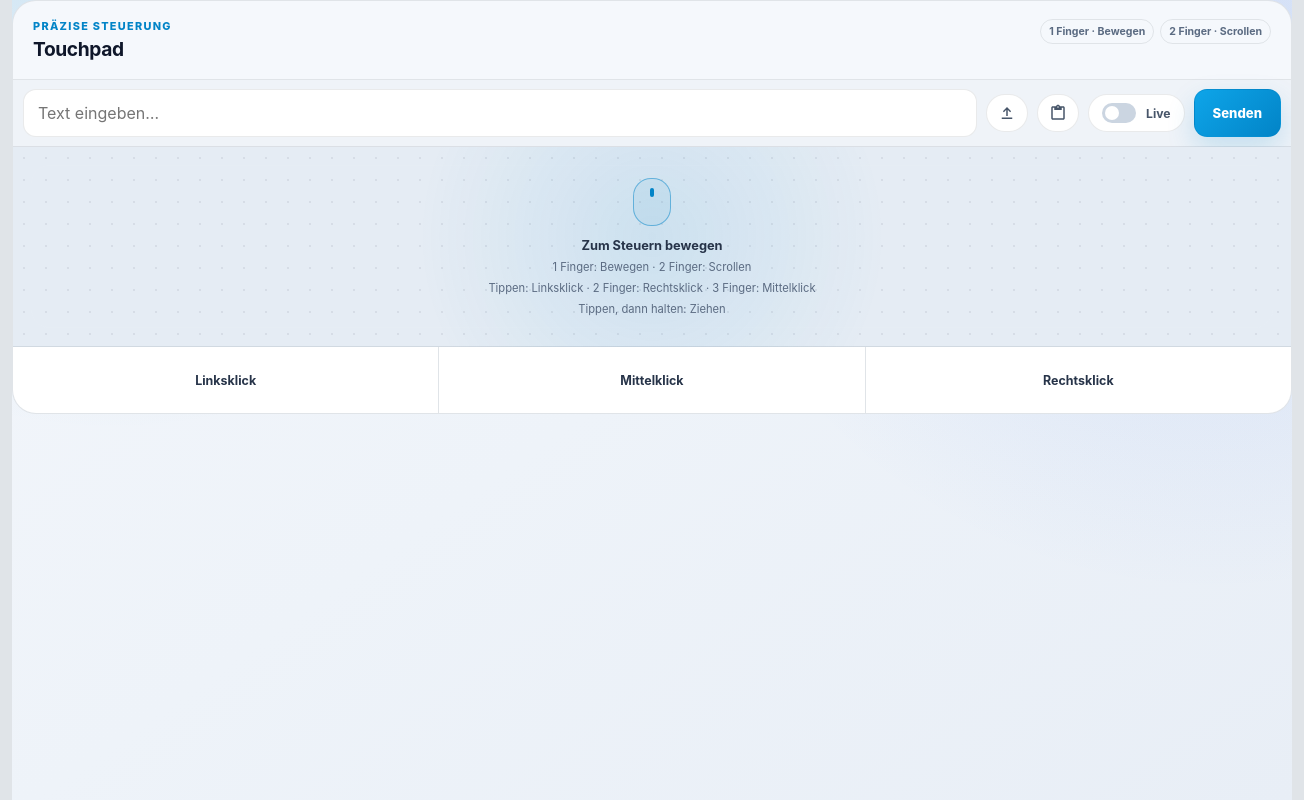
TouchpadComponent › offers both directions with device wording on Android
The width and height of the screenshot is (1304, 800).
Click the button named "Zwischenablage": {"x": 1058, "y": 113} [1037,94,1079,132]
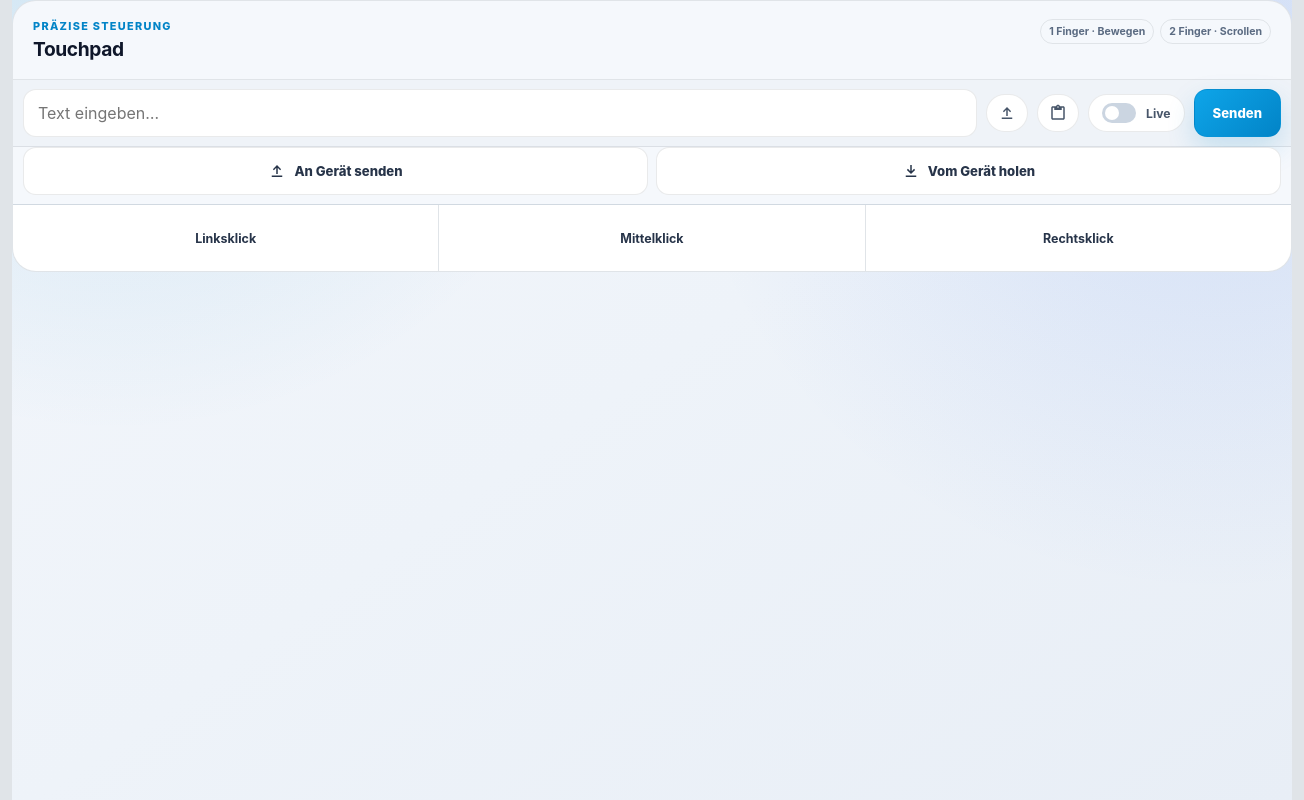
Check: the button "An Gerät senden" is shown, box [23,147,648,195]
Check: the button "Vom Gerät holen" is shown, box [656,147,1281,195]
